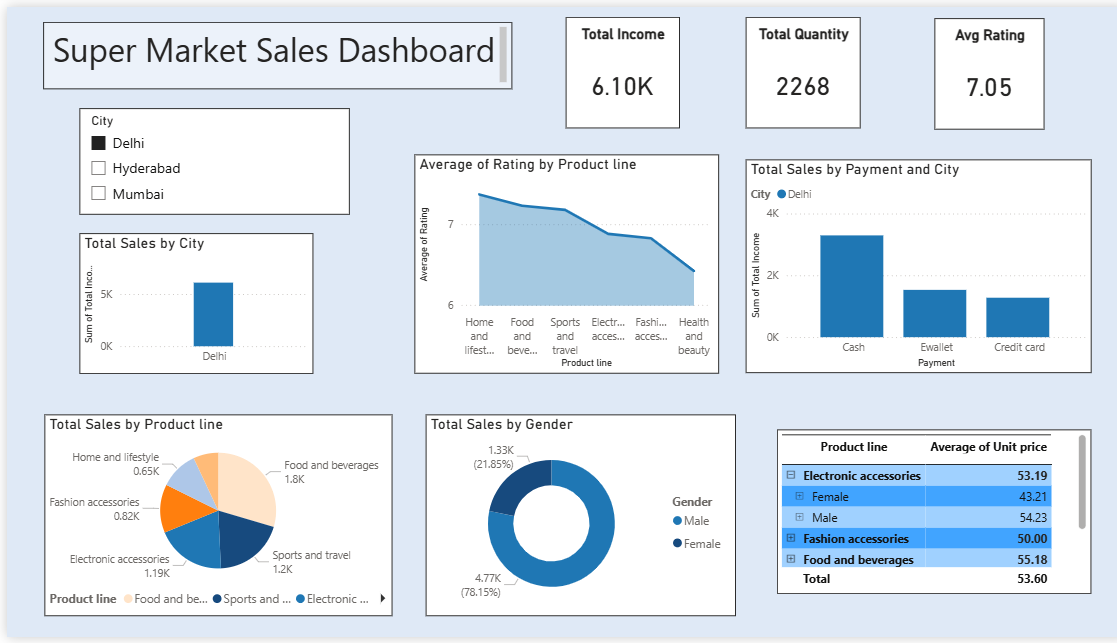

This screenshot's page, from the dashboard's own definition file:
{"tool":"powerbi","page":{"name":"Page 1","canvas":[1280,720],"ordinal":0},"visuals":[{"type":"textbox","box":[41.4,17.1,535.7,77.1],"z":0},{"type":"columnChart","title":"Total Sales by City","fields":{"Y":["Sum(Realmart Sales Dataset.gross income)"],"Category":["Realmart Sales Dataset.City"]},"box":[82.3,258,267.6,160.5],"z":4000},{"type":"clusteredColumnChart","title":"Total Sales by Payment and City","fields":{"Category":["Realmart Sales Dataset.Payment"],"Y":["Sum(Realmart Sales Dataset.gross income)"],"Series":["Realmart Sales Dataset.City"]},"box":[843.9,174.3,395.2,244.3],"z":5000},{"type":"areaChart","fields":{"Category":["Realmart Sales Dataset.Product line"],"Y":["Avg(Realmart Sales Dataset.Rating)"]},"box":[465,168.3,348.3,250],"z":6000},{"type":"pieChart","title":"Total Sales by Product line","fields":{"Category":["Realmart Sales Dataset.Product line"],"Y":["Sum(Realmart Sales Dataset.gross income)"]},"box":[42.5,465.2,397.9,230.5],"z":7000},{"type":"donutChart","title":"Total Sales by Gender","fields":{"Category":["Realmart Sales Dataset.Gender"],"Y":["Sum(Realmart Sales Dataset.gross income)"]},"box":[478.9,465.2,354,230.5],"z":8000},{"type":"pivotTable","fields":{"Rows":["Realmart Sales Dataset.Product line","Realmart Sales Dataset.Gender","Realmart Sales Dataset.City"],"Values":["Avg(Realmart Sales Dataset.Unit price)"]},"box":[879.6,483,359.5,188],"z":9000},{"type":"slicer","fields":{"Values":["Realmart Sales Dataset.City"]},"box":[82.9,115.7,308.6,121.4],"z":10000},{"type":"card","title":"Total Income ","fields":{"Values":["Sum(Realmart Sales Dataset.Total Income)"]},"box":[638.6,11.4,130,127.1],"z":10001},{"type":"card","title":"Total Quantity","fields":{"Values":["Sum(Realmart Sales Dataset.Quantity)"]},"box":[844.3,11.4,131.4,127.1],"z":10002},{"type":"card","title":"Avg Rating","fields":{"Values":["Avg(Realmart Sales Dataset.Rating)"]},"box":[1060,12.9,125.7,127.1],"z":10003}]}

Visuals, with their boxes in screenshot pixels (x1, y1, x2, y2), scaled from the page's 1280x720 canvas onto the 1117x643 screenshot:
textbox: [36, 15, 504, 84]
"Total Sales by City" columnChart: [72, 230, 305, 374]
"Total Sales by Payment and City" clusteredColumnChart: [736, 156, 1081, 374]
areaChart - Realmart Sales Dataset.Product line x Avg(Realmart Sales Dataset.Rating): [406, 150, 710, 374]
"Total Sales by Product line" pieChart: [37, 415, 384, 621]
"Total Sales by Gender" donutChart: [418, 415, 727, 621]
pivotTable - Realmart Sales Dataset.Product line x Realmart Sales Dataset.Gender: [768, 431, 1081, 599]
slicer - Realmart Sales Dataset.City: [72, 103, 342, 212]
"Total Income " card: [557, 10, 671, 124]
"Total Quantity" card: [737, 10, 851, 124]
"Avg Rating" card: [925, 12, 1035, 125]
